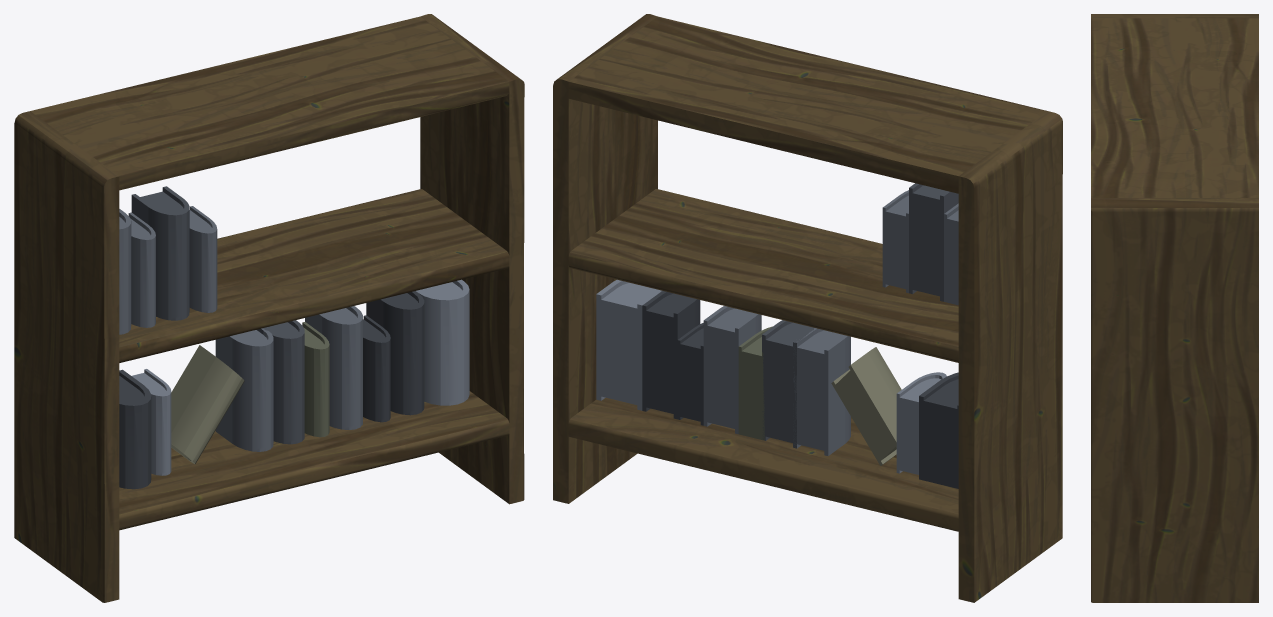
File: BOOKSHELF.fbx
3 renders of one model, left to right at view 1: azimuth 30°, elevation 25°; view 2: azimuth 150°, elevation 25°; view 3: azimuth 270°, elevation 25°, orthographic. The views are drawn at different scales.
Visible parts, largest first — view 1: bookshelf; view 2: bookshelf; view 3: bookshelf.
Part boxes in pixels (x1=…): bookshelf: x1=14, y1=14, x2=524, y2=602; bookshelf: x1=553, y1=14, x2=1062, y2=602; bookshelf: x1=1091, y1=14, x2=1258, y2=602.
Size of the model in its own units: 9.37 by 8.99 by 3.43.
